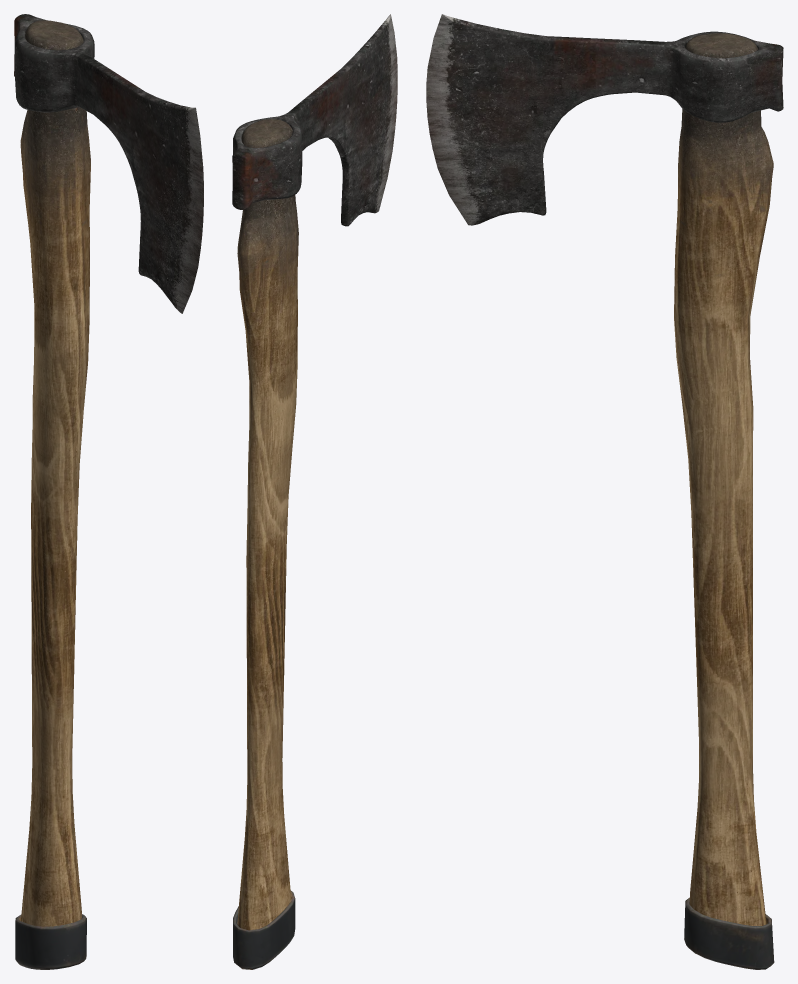
The model's file is wooden_axe.glb.
The picture shows the model from 3 angles, left to right: view 1: azimuth 30°, elevation 25°; view 2: azimuth 150°, elevation 25°; view 3: azimuth 270°, elevation 25°; orthographic projection. The views are drawn at different scales.
Parts seen in each view (by area): view 1: wooden_axe; view 2: wooden_axe; view 3: wooden_axe.
Part boxes in pixels (bbox=[...]): wooden_axe: bbox=[14, 14, 203, 969]; wooden_axe: bbox=[232, 14, 397, 969]; wooden_axe: bbox=[426, 14, 783, 969].
Bounding box in the file's own units: 0.0472 × 0.6303 × 0.2143.
Materials: 1 (1 with a texture image).
